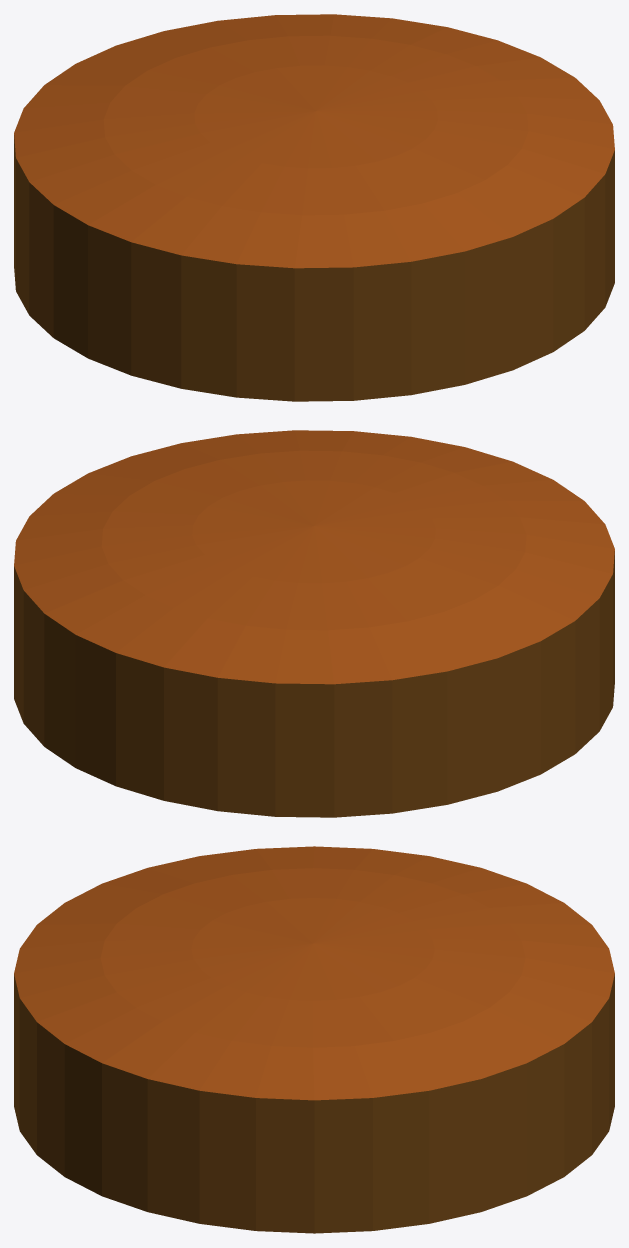
Rendered from Unbaked_Cake.fbx.
3 views of the same model, one above another, from view 1: azimuth 30°, elevation 25°; view 2: azimuth 150°, elevation 25°; view 3: azimuth 270°, elevation 25° (orthographic).
Visible parts, largest first — view 1: Cylinder; view 2: Cylinder; view 3: Cylinder.
Boxes of the visible parts, x1,y1,x2,y2 form: Cylinder: (14, 14, 614, 401); Cylinder: (14, 430, 614, 817); Cylinder: (14, 846, 614, 1233).
Bounding box in the file's own units: 200 × 60.01 × 200.
